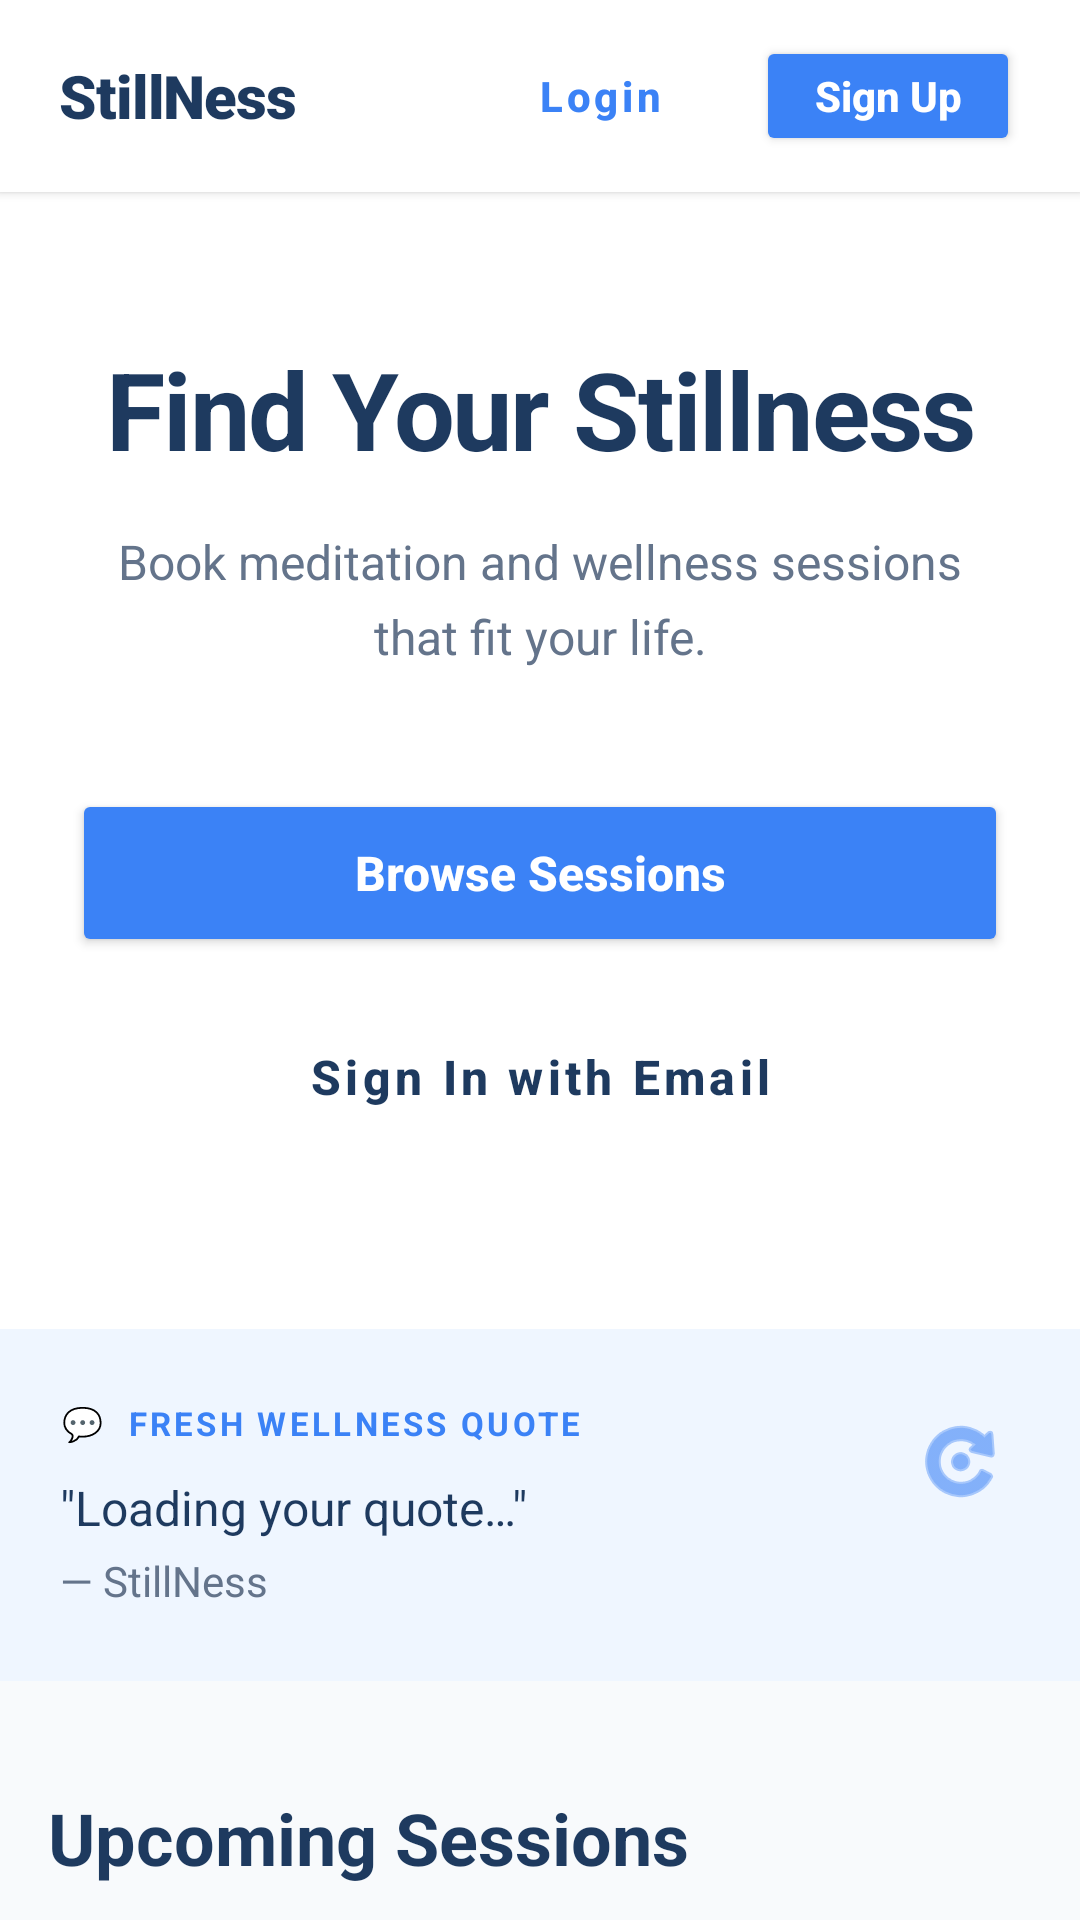

Screen size 1080w x 1920h. Icon name, then its center in pixels as (x=x, y=y):
Refresh quote: (x=960, y=1461)
